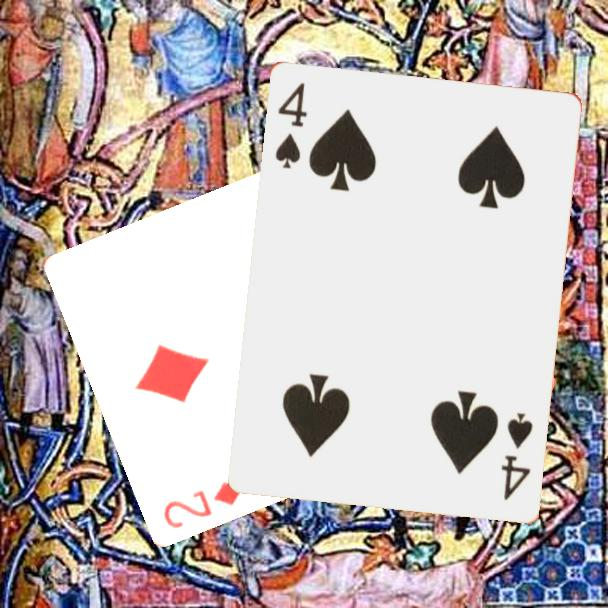d02: (160, 477, 246, 531)
s04: (497, 408, 536, 503), (271, 79, 310, 171)
